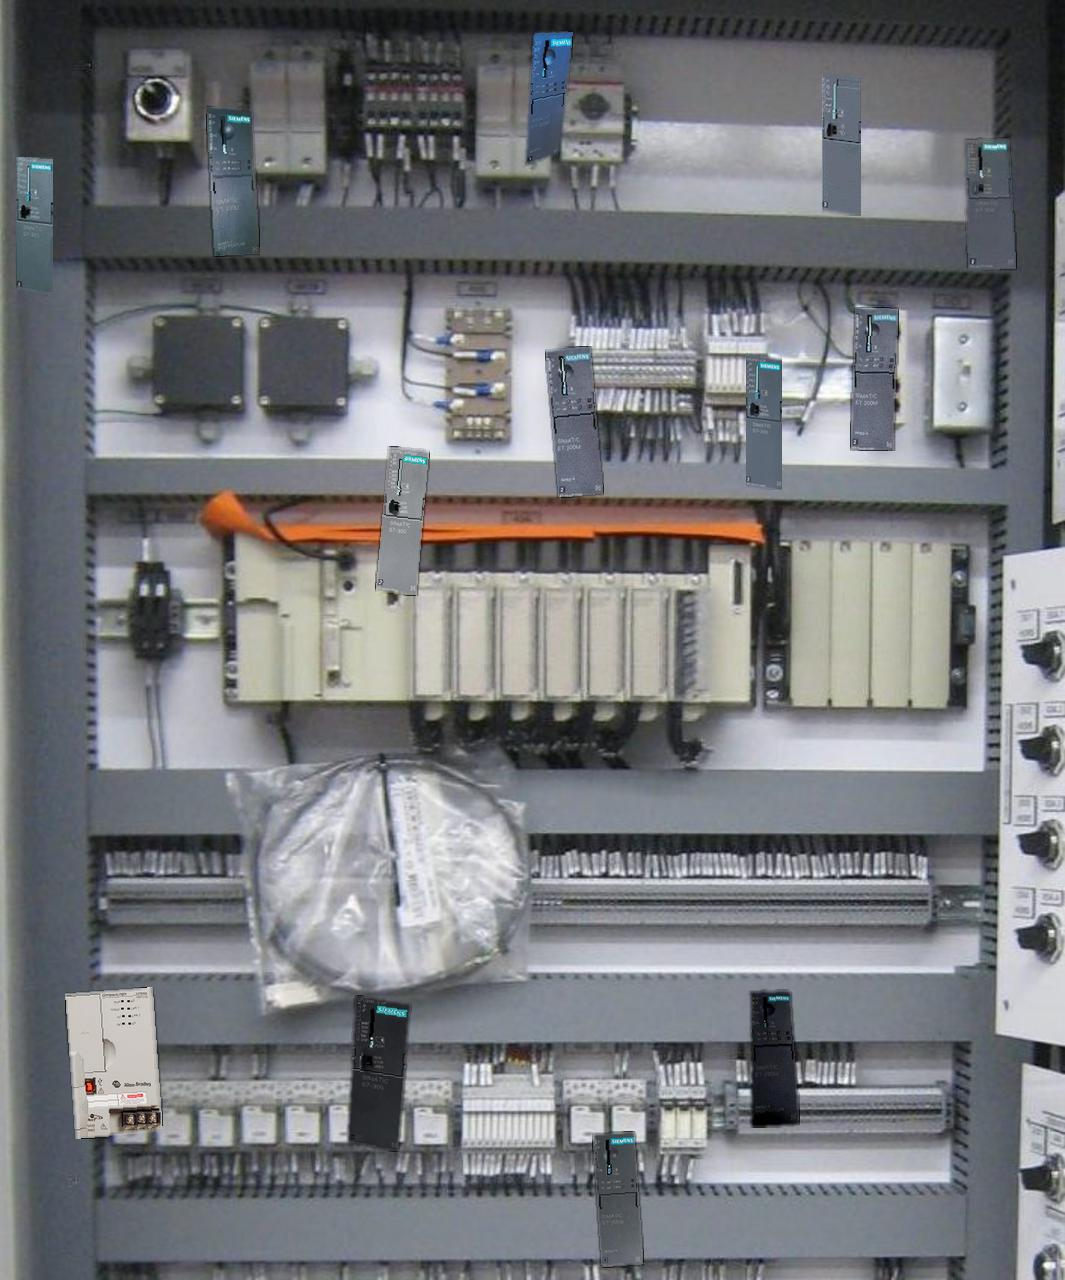AllenBradley: (65, 987, 162, 1138)
Siemens: (348, 996, 409, 1150), (376, 447, 428, 595), (965, 139, 1015, 269), (822, 73, 860, 215), (16, 157, 52, 291), (746, 355, 781, 489)
